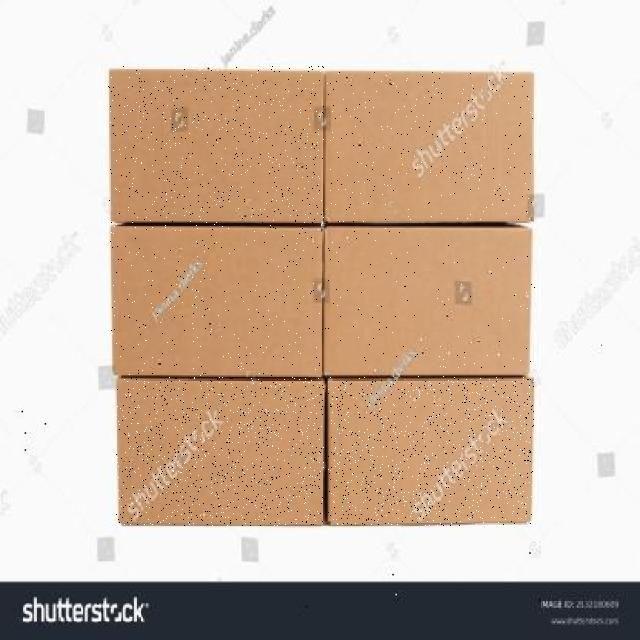BoxFace: (107, 66, 324, 226), (110, 223, 324, 377), (322, 224, 536, 378), (325, 72, 533, 222), (116, 377, 324, 526), (328, 377, 534, 526)
